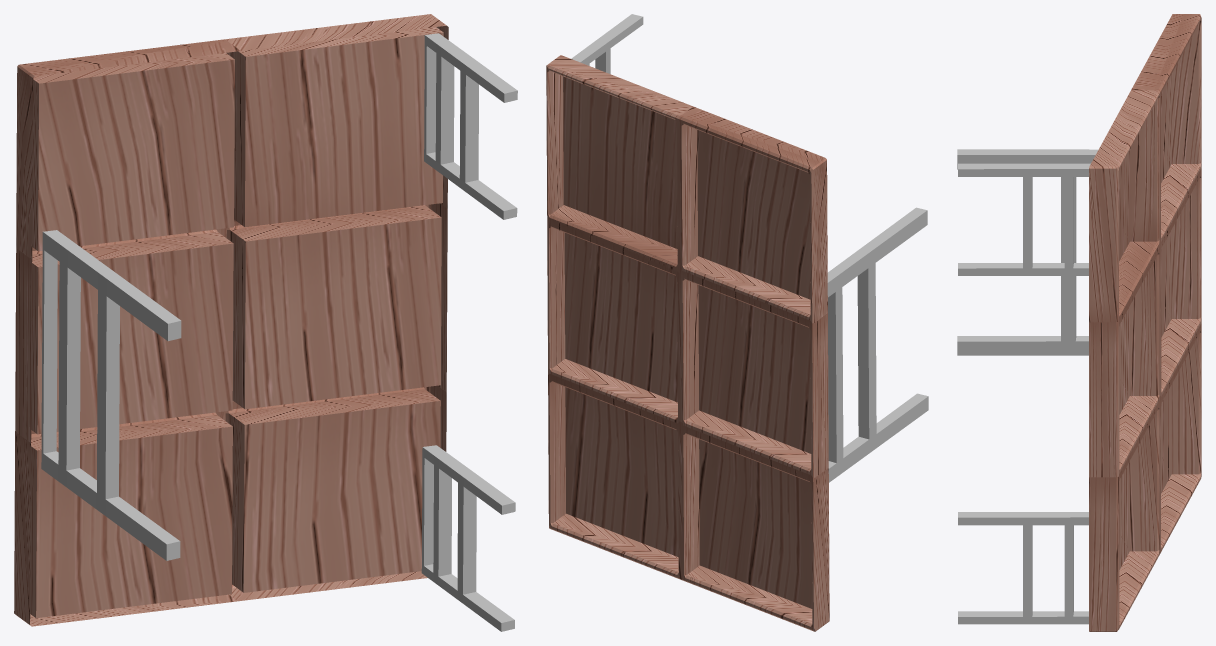
The model's file is TableMarche_v1.fbx.
3 renders of one model, left to right at view 1: azimuth 30°, elevation 25°; view 2: azimuth 150°, elevation 25°; view 3: azimuth 270°, elevation 25°, orthographic. The views are drawn at different scales.
Visible parts, largest first — view 1: M.plateauBacs.002, M.T2.Feet.001; view 2: M.plateauBacs.002, M.T2.Feet.001; view 3: M.plateauBacs.002, M.T2.Feet.001.
Boxes of the visible parts, left/top/right/bottom form: M.plateauBacs.002: left=14, top=14, right=448, bottom=626; M.T2.Feet.001: left=41, top=33, right=517, bottom=631; M.plateauBacs.002: left=546, top=55, right=829, bottom=631; M.T2.Feet.001: left=571, top=14, right=928, bottom=482; M.plateauBacs.002: left=1089, top=14, right=1201, bottom=631; M.T2.Feet.001: left=957, top=149, right=1098, bottom=624.
Size of the model in its own units: 191 by 273 by 129.
